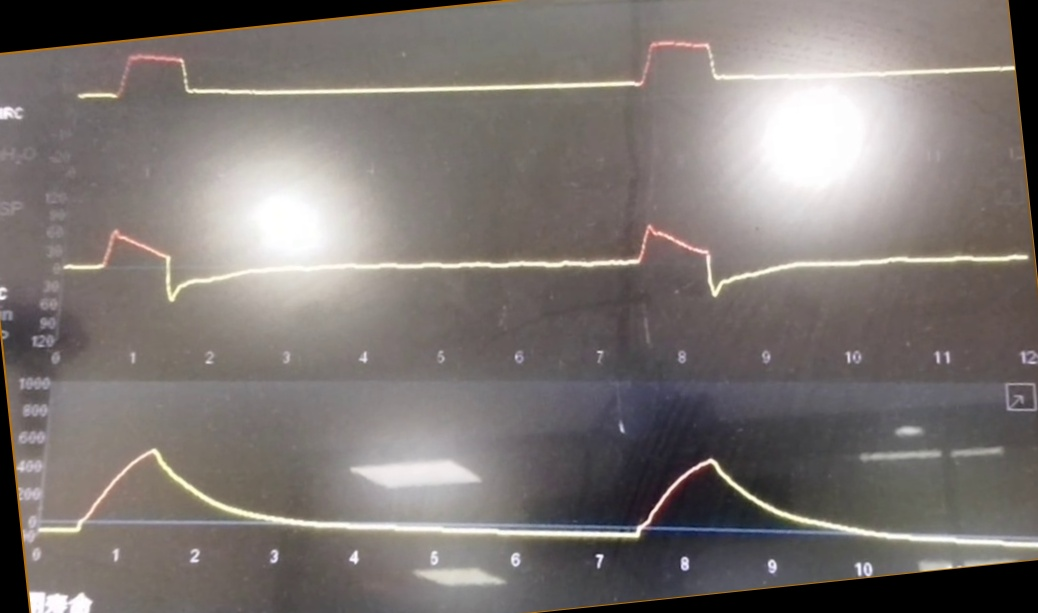Normal Flow: (66, 198, 1020, 330)
Normal Volume: (47, 408, 1036, 551)
